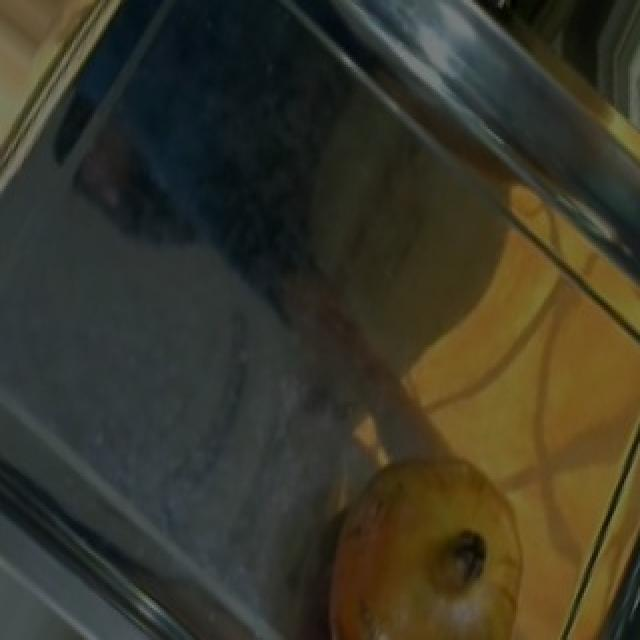fruit: (296, 422, 560, 638)
